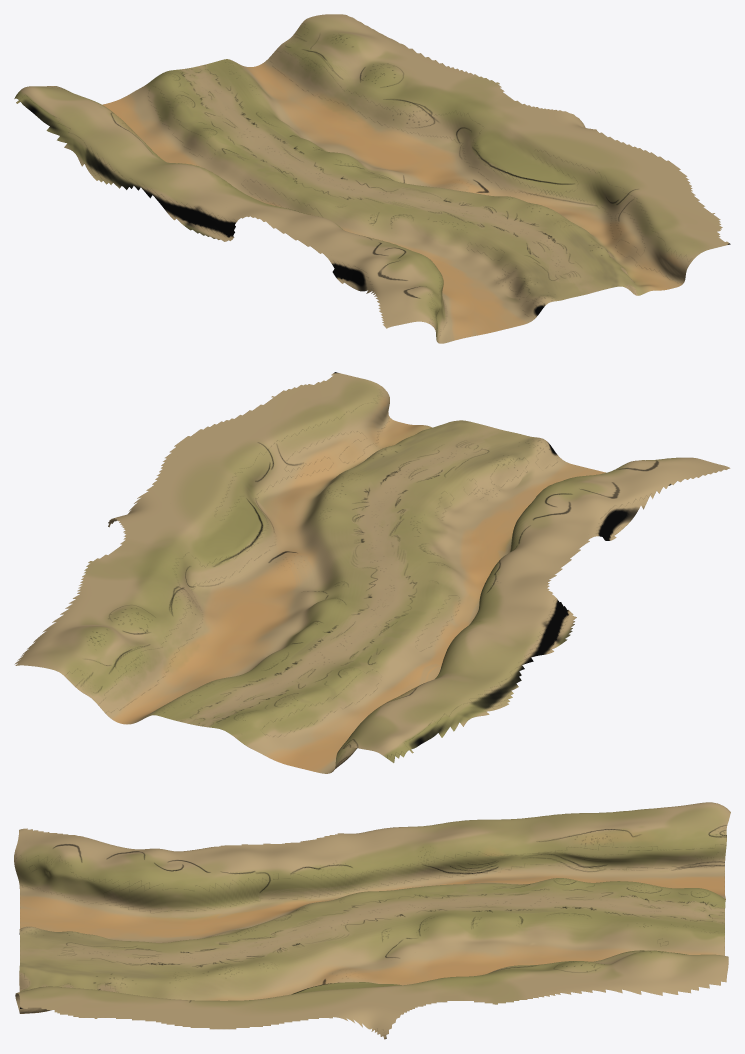
The model's file is hugeLevel1.glb.
The picture shows the model from 3 angles, top to bottom: view 1: azimuth 30°, elevation 25°; view 2: azimuth 150°, elevation 25°; view 3: azimuth 270°, elevation 25°; orthographic projection. The views are drawn at different scales.
Visible parts, largest first — view 1: Plane; view 2: Plane; view 3: Plane.
Boxes of the visible parts, left/top/right/bottom form: Plane: left=14, top=14, right=730, bottom=343; Plane: left=14, top=372, right=730, bottom=773; Plane: left=14, top=802, right=730, bottom=1039.
Size of the model in its own units: 8.73 by 0.7953 by 11.78.
1 material, 1 textured.
